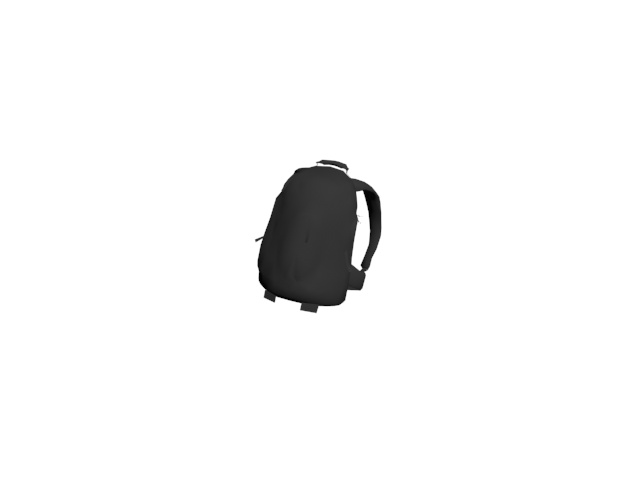back_pack: (249, 153, 384, 320)
